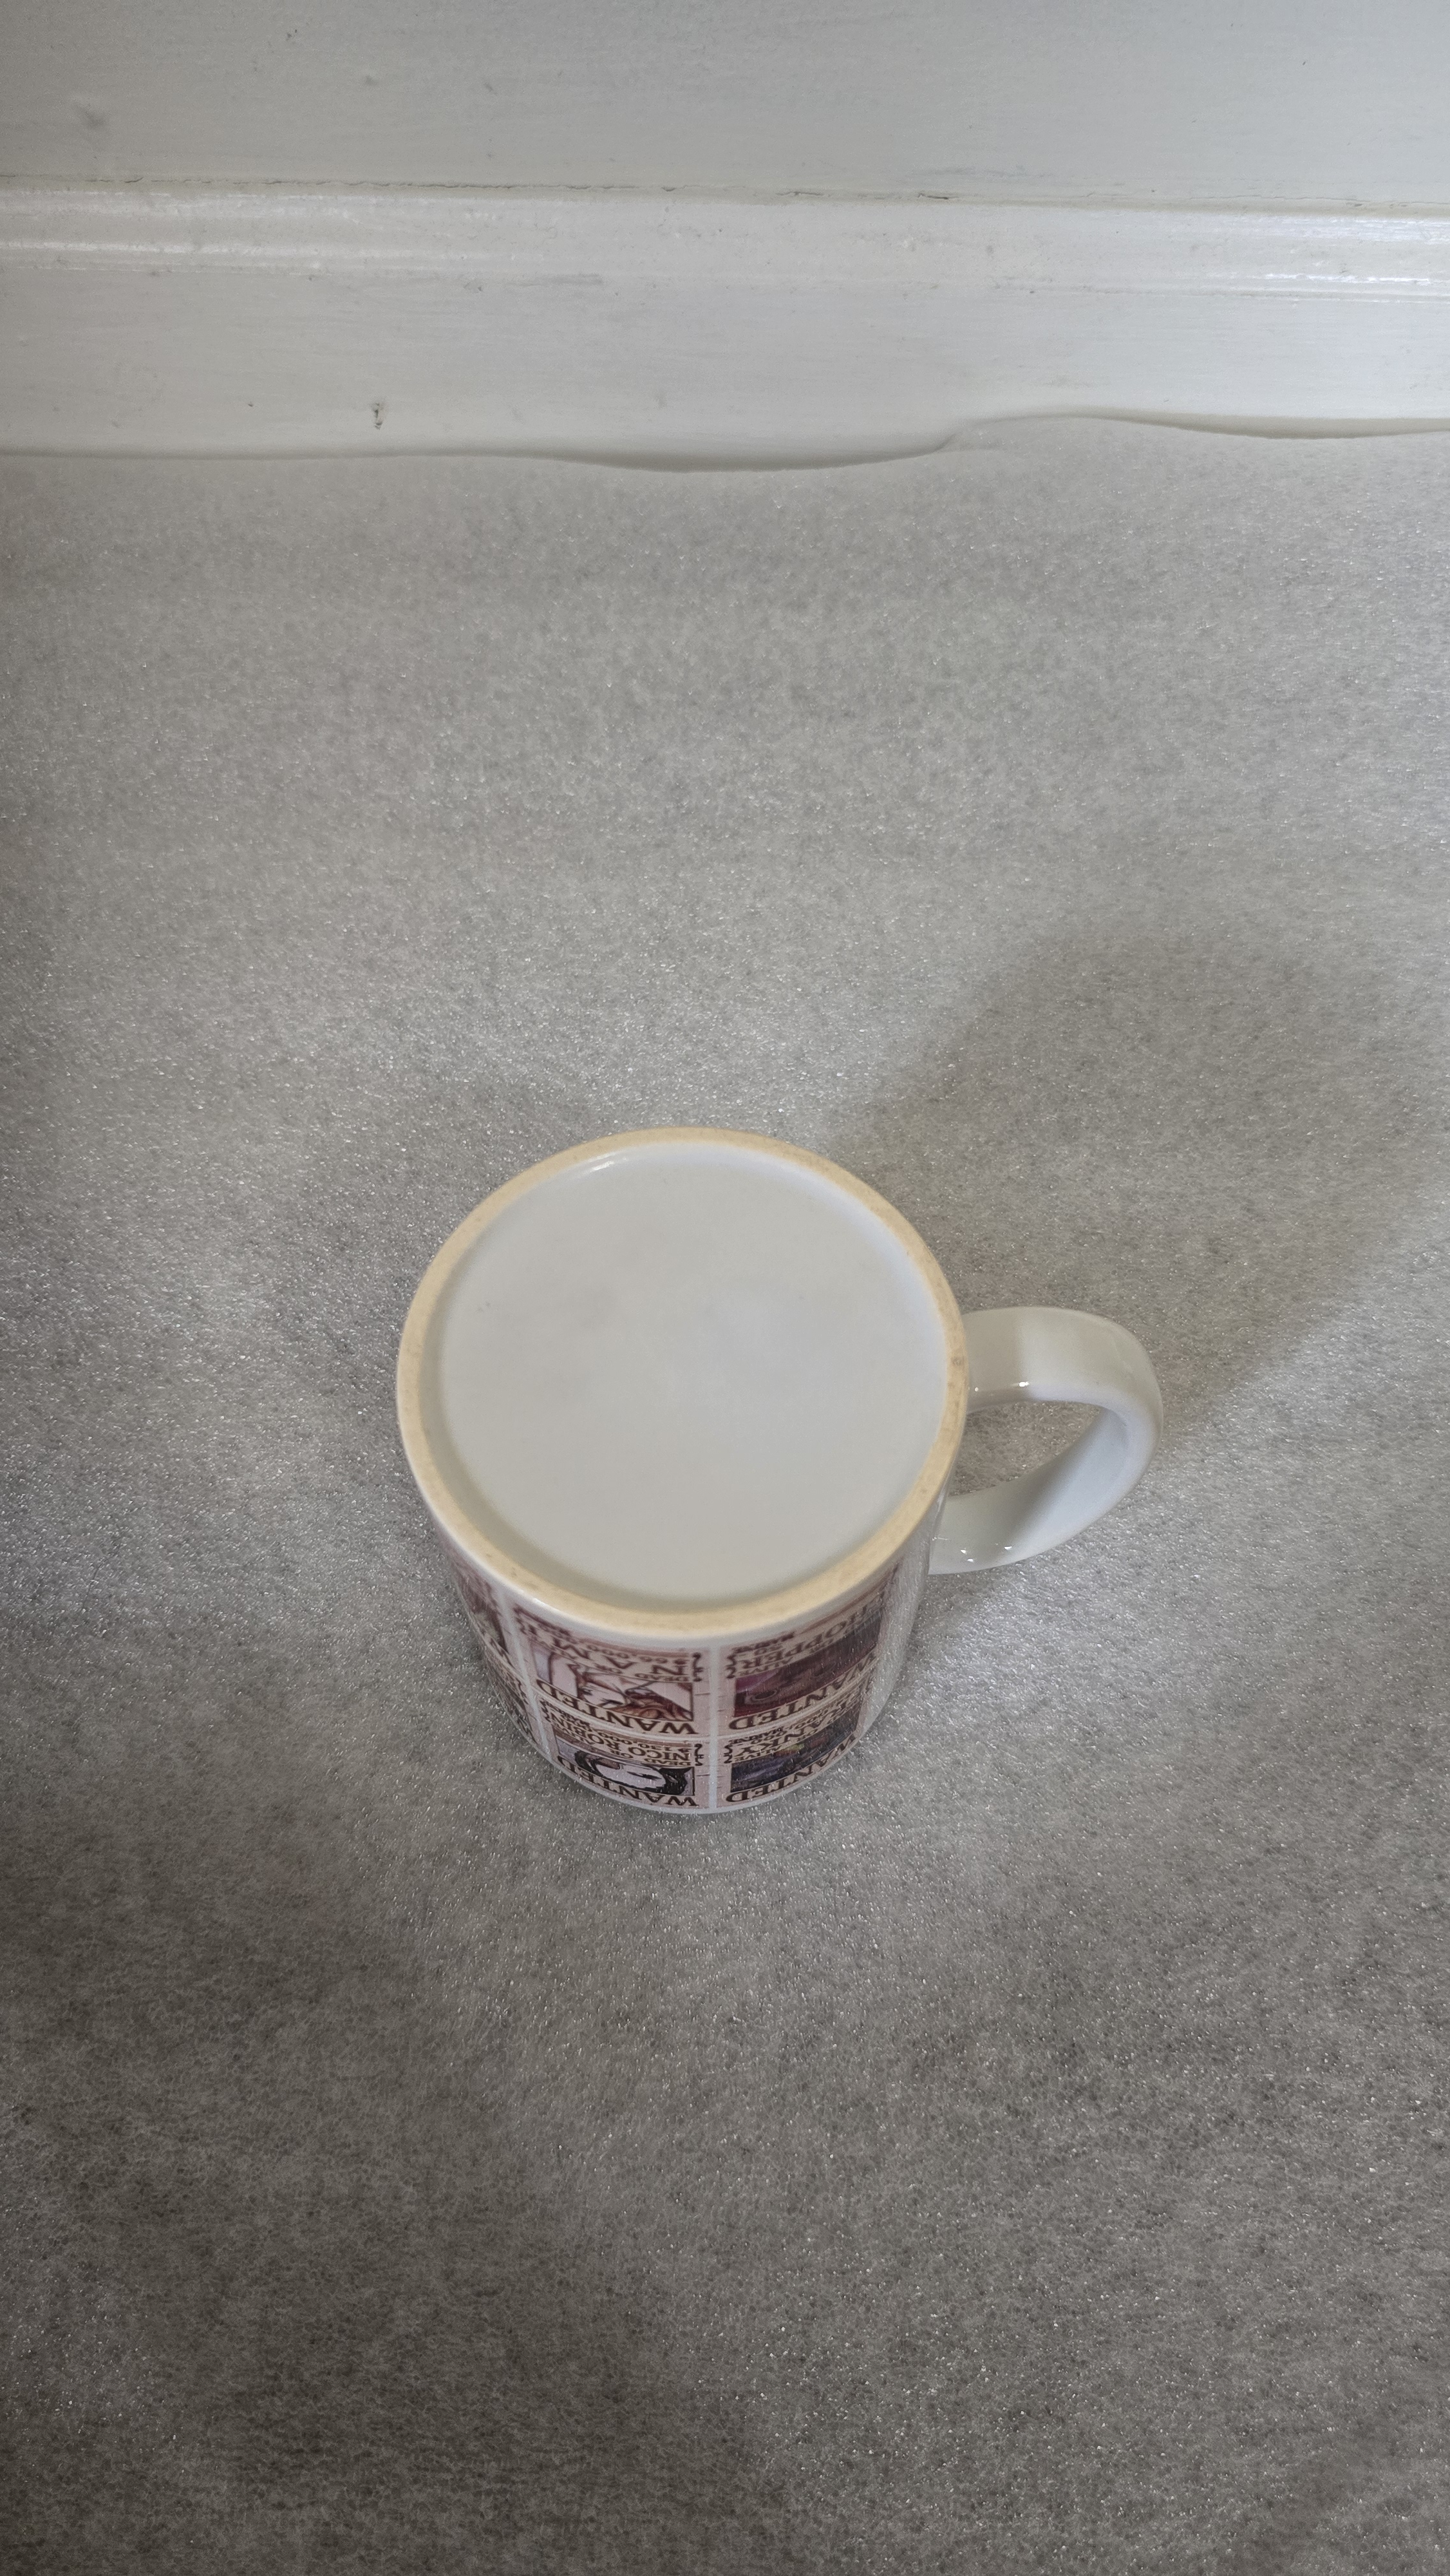mug: (385, 1108, 1185, 1854)
